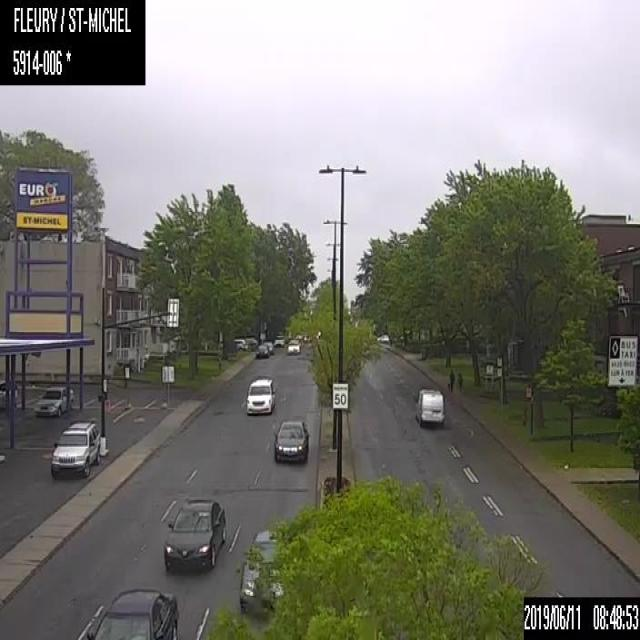pedestrian: (448, 368, 464, 395), (454, 370, 464, 396)
vehicle: (85, 584, 179, 639), (163, 496, 226, 569), (238, 531, 288, 612), (48, 418, 100, 478), (274, 416, 309, 461), (34, 384, 74, 418), (414, 382, 444, 427), (246, 373, 276, 415), (286, 337, 300, 354), (254, 343, 268, 360), (235, 338, 248, 350), (273, 333, 284, 345), (263, 341, 273, 353)
